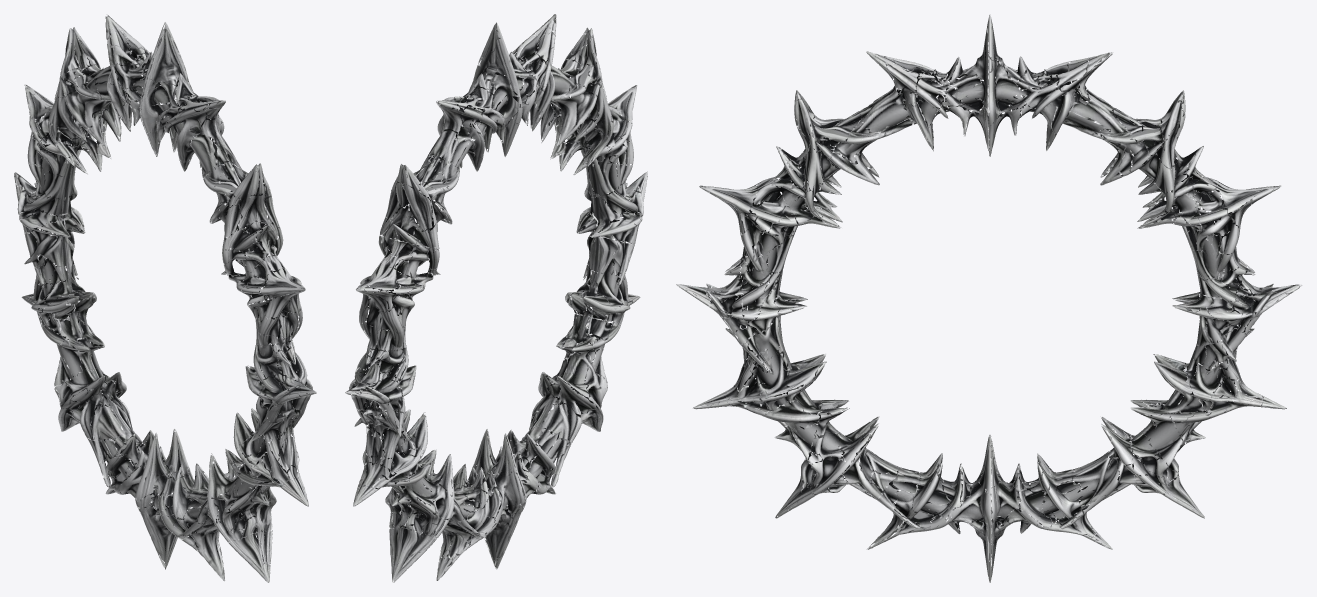
File: ring.glb
3 renders of one model, left to right at view 1: azimuth 30°, elevation 25°; view 2: azimuth 150°, elevation 25°; view 3: azimuth 270°, elevation 25°, orthographic. The views are drawn at different scales.
Visible parts, largest first — view 1: ring; view 2: ring; view 3: ring.
Boxes of the visible parts, x1=… form: ring: x1=14, y1=14, x2=316, y2=582; ring: x1=345, y1=14, x2=647, y2=582; ring: x1=676, y1=14, x2=1301, y2=582.
Size of the model in its own units: 0.2181 by 1.9 by 1.9.
1 material, 1 textured.
